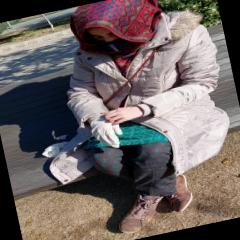gloved: (88, 112, 125, 152)
not-gloved: (104, 103, 146, 127)
